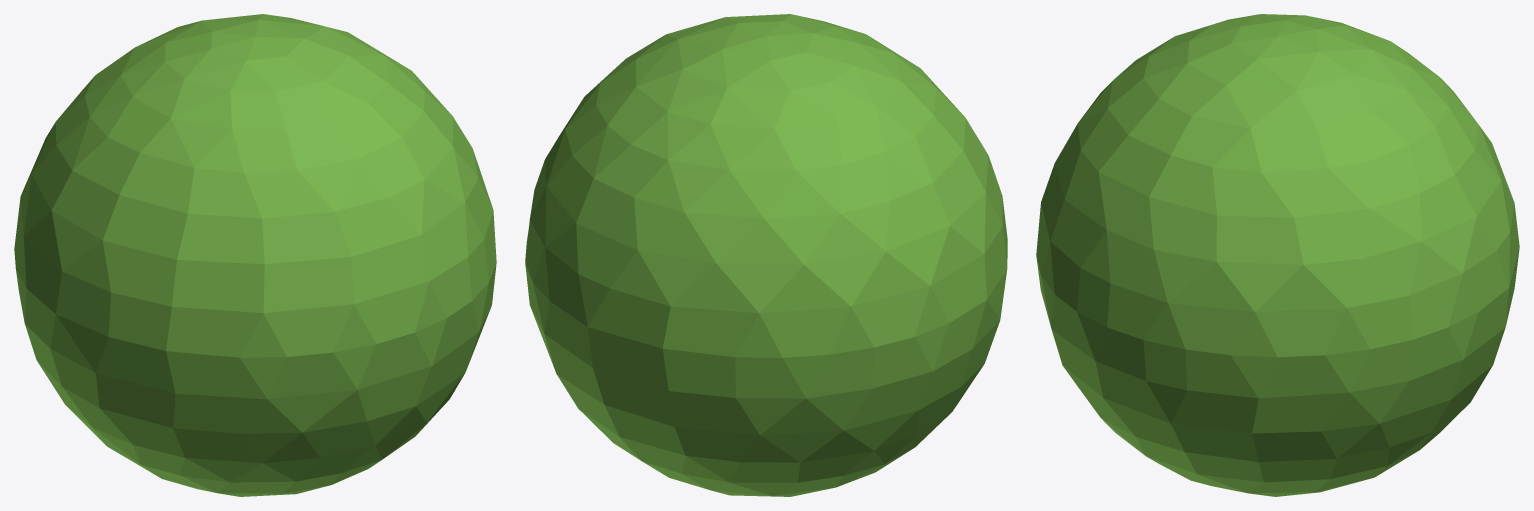
The picture shows the model from 3 angles, left to right: view 1: azimuth 30°, elevation 25°; view 2: azimuth 150°, elevation 25°; view 3: azimuth 270°, elevation 25°; orthographic projection.
Visible parts, largest first — view 1: Sphere.002; view 2: Sphere.002; view 3: Sphere.002.
Part boxes in pixels (left/top/right/bottom): Sphere.002: left=14, top=14, right=496, bottom=496; Sphere.002: left=525, top=14, right=1007, bottom=496; Sphere.002: left=1036, top=14, right=1519, bottom=496.
Size of the model in its own units: 2663 by 2661 by 2663.
